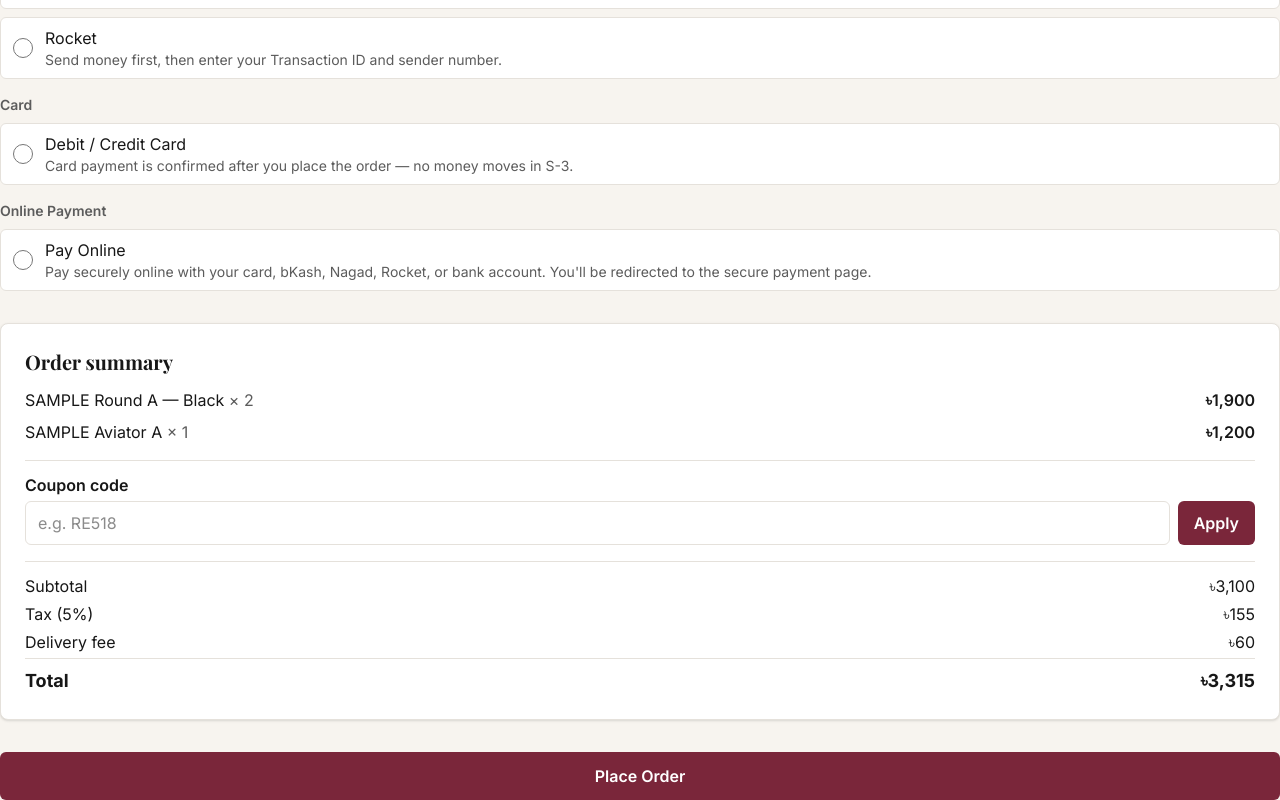
Test: CheckoutForm › submitting empty shows inline errors and focuses the first error
(page scrolled)
Click the button "Place Order": x=640, y=776 [0,752,1279,799]
(page scrolled)
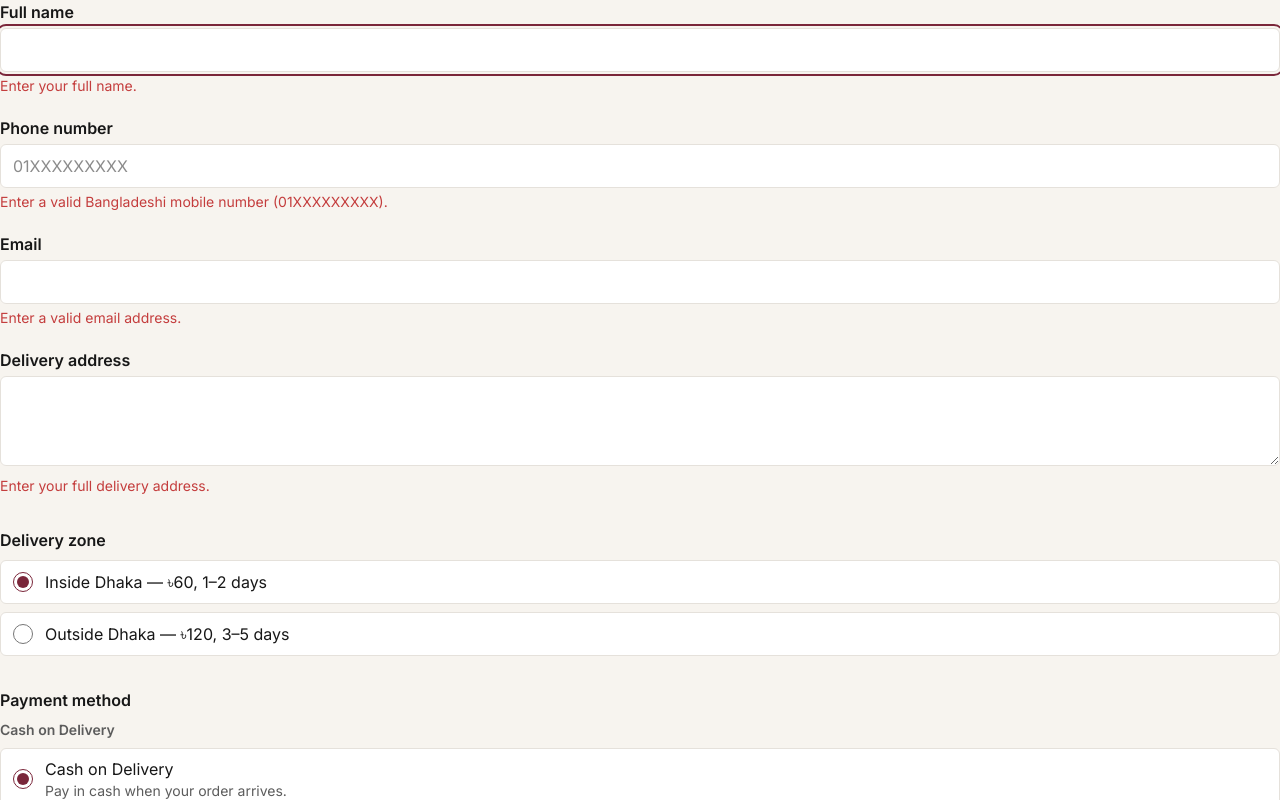
Result: the text "Enter your full name." is shown at [0,77,137,94]
Result: the text "Enter a valid Bangladeshi mobile number (01XXXXXXXXX)." is shown at [0,193,388,210]
Result: the text "Enter a valid email address." is shown at [0,309,181,326]
